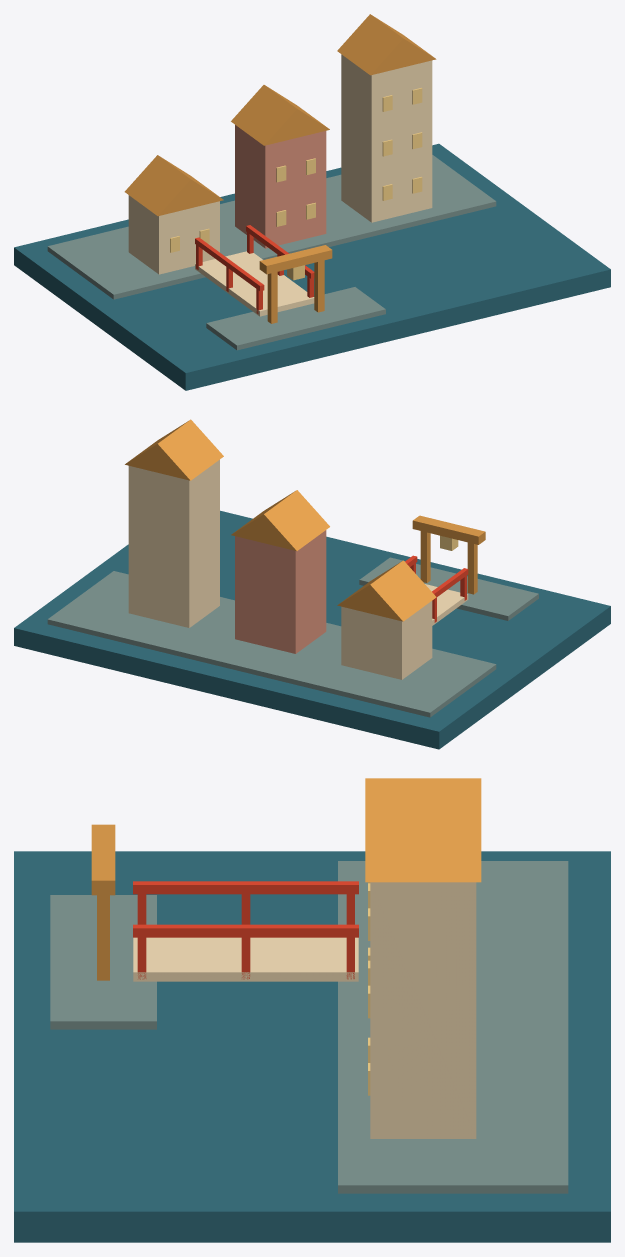
The model's file is Paper City.glb.
3 views of the same model, one above another, from view 1: azimuth 30°, elevation 25°; view 2: azimuth 150°, elevation 25°; view 3: azimuth 270°, elevation 25° (orthographic). The views are drawn at different scales.
Visible parts, largest first — view 1: River plinth, Tower 3 wall, North bank, Tower 2 wall, Lantern quay, Tower 1 wall, Tower 1 folded roof, Tower 3 folded roof, Tower 2 folded roof, Footbridge, Lantern Gate lintel, Bridge rail (+2 smaller); view 2: River plinth, North bank, Tower 3 wall, Tower 2 wall, Tower 1 wall, Tower 2 folded roof, Tower 1 folded roof, Tower 3 folded roof, Lantern quay, Lantern Gate lintel, Footbridge, Lantern Gate post.001 (+1 smaller); view 3: River plinth, North bank, Tower 3 wall, Lantern quay, Footbridge, Tower 3 folded roof, Bridge rail.001, Bridge rail, Lantern Gate lintel, Tower 1 folded roof, Tower 2 folded roof, Lantern Gate post.001.
Part boxes in pixels (x1,y1,x2,y2): River plinth: (14, 143, 610, 390); Tower 3 wall: (341, 54, 432, 222); North bank: (47, 155, 496, 299); Tower 2 wall: (235, 125, 326, 248); Lantern quay: (206, 287, 385, 350); Tower 1 wall: (128, 195, 219, 274); Tower 1 folded roof: (124, 155, 223, 216); Tower 3 folded roof: (337, 14, 436, 75); Tower 2 folded roof: (231, 85, 329, 145); Footbridge: (195, 251, 314, 316); Lantern Gate lintel: (259, 245, 332, 274); Bridge rail: (195, 237, 264, 291); River plinth: (14, 510, 610, 749); North bank: (47, 571, 496, 717); Tower 3 wall: (128, 459, 219, 627); Tower 2 wall: (235, 530, 326, 653); Tower 1 wall: (341, 601, 432, 679); Tower 2 folded roof: (231, 490, 329, 550); Tower 1 folded roof: (337, 560, 436, 621); Tower 3 folded roof: (125, 419, 223, 480); Lantern quay: (359, 557, 538, 620); Lantern Gate lintel: (412, 515, 485, 544); Footbridge: (425, 584, 468, 625); Lantern Gate post.001: (420, 531, 430, 582); River plinth: (14, 851, 610, 1242); North bank: (338, 861, 568, 1193); Tower 3 wall: (370, 882, 476, 1138); Lantern quay: (50, 895, 156, 1029); Footbridge: (133, 937, 358, 981); Tower 3 folded roof: (365, 804, 481, 882); Bridge rail.001: (133, 924, 358, 937); Bridge rail: (133, 881, 358, 894); Lantern Gate lintel: (91, 824, 115, 895); Tower 1 folded roof: (365, 778, 481, 790); Tower 2 folded roof: (365, 791, 481, 803); Lantern Gate post.001: (97, 895, 109, 980).
Size of the model in its own units: 10 by 4.51 by 7.
